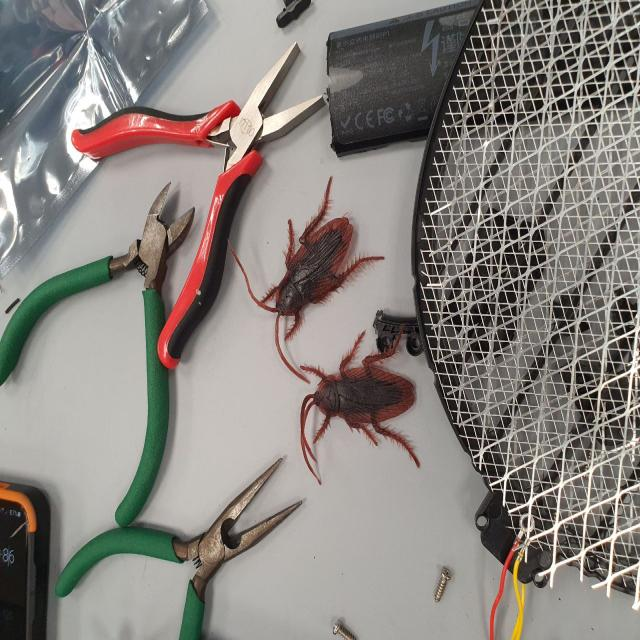Cockroach: (221, 176, 391, 373), (287, 331, 429, 484)
